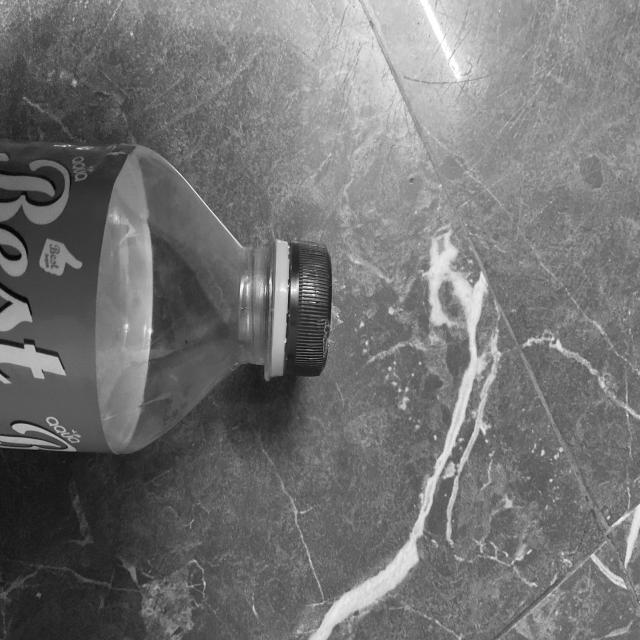Good-cap-Df0S: (268, 232, 333, 386)
